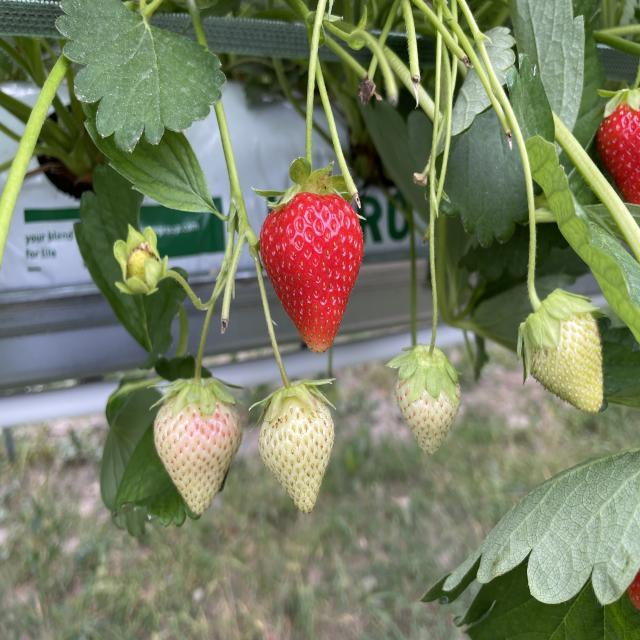stem: (467, 39, 593, 375), (154, 101, 247, 413), (388, 89, 455, 397), (271, 0, 342, 207), (252, 340, 331, 417), (597, 60, 639, 114)
strawberryNR: (156, 402, 239, 515), (259, 396, 331, 511), (532, 312, 602, 411), (395, 380, 459, 451)
strawberryR: (263, 196, 362, 351), (596, 103, 639, 203), (627, 568, 639, 609)
